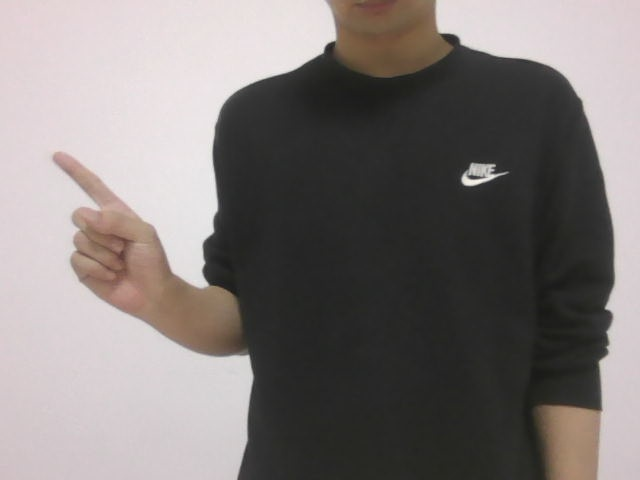what: (42, 146, 187, 330)
